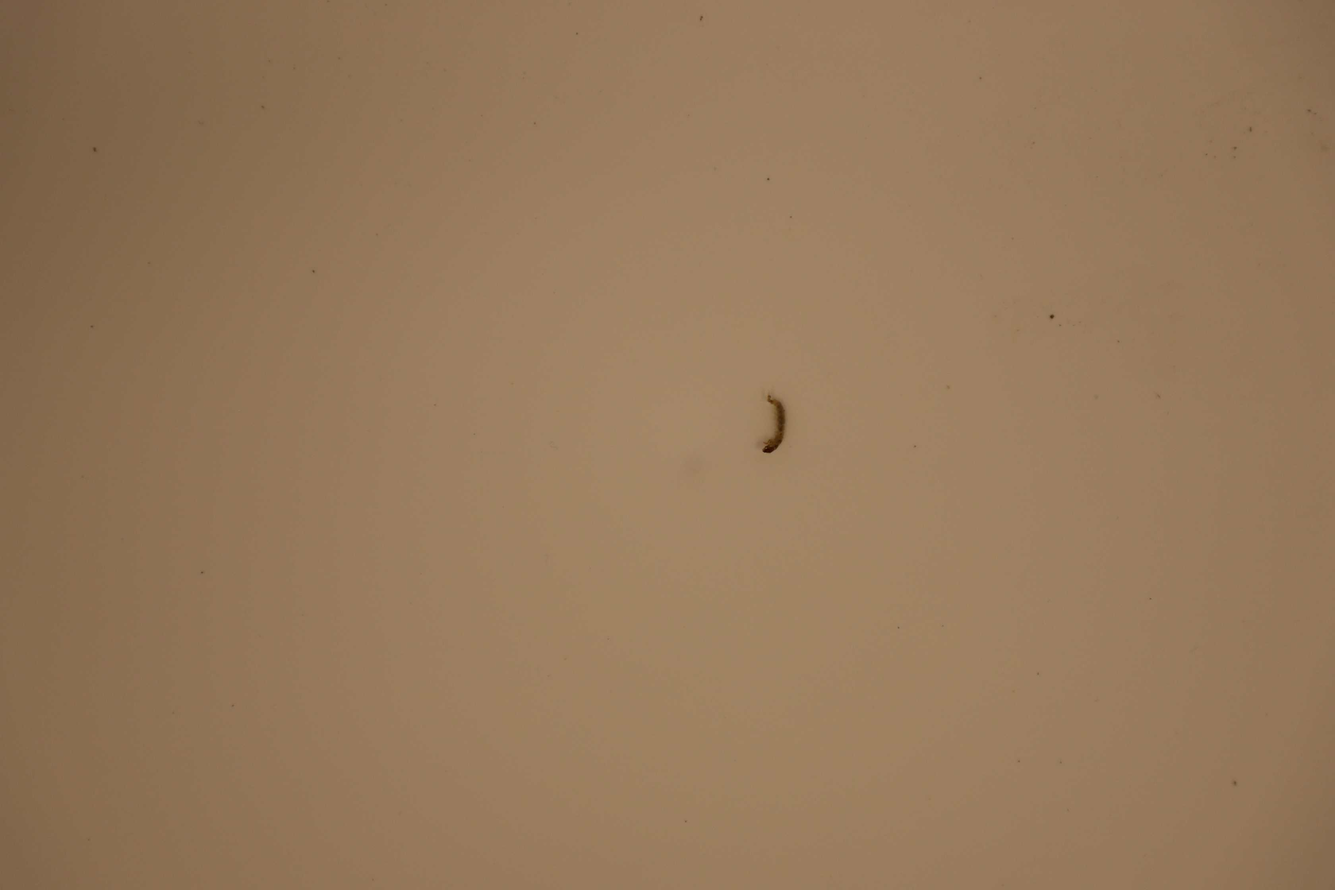Cadisfly: (753, 390, 788, 451)
